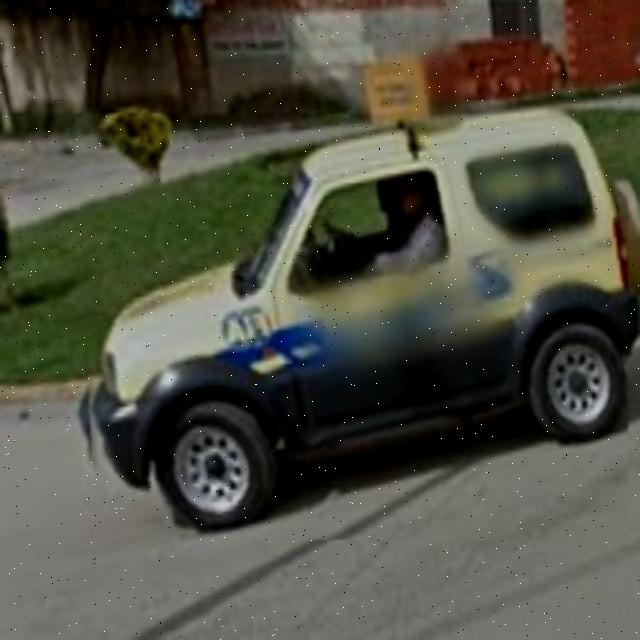car: (77, 114, 629, 543)
